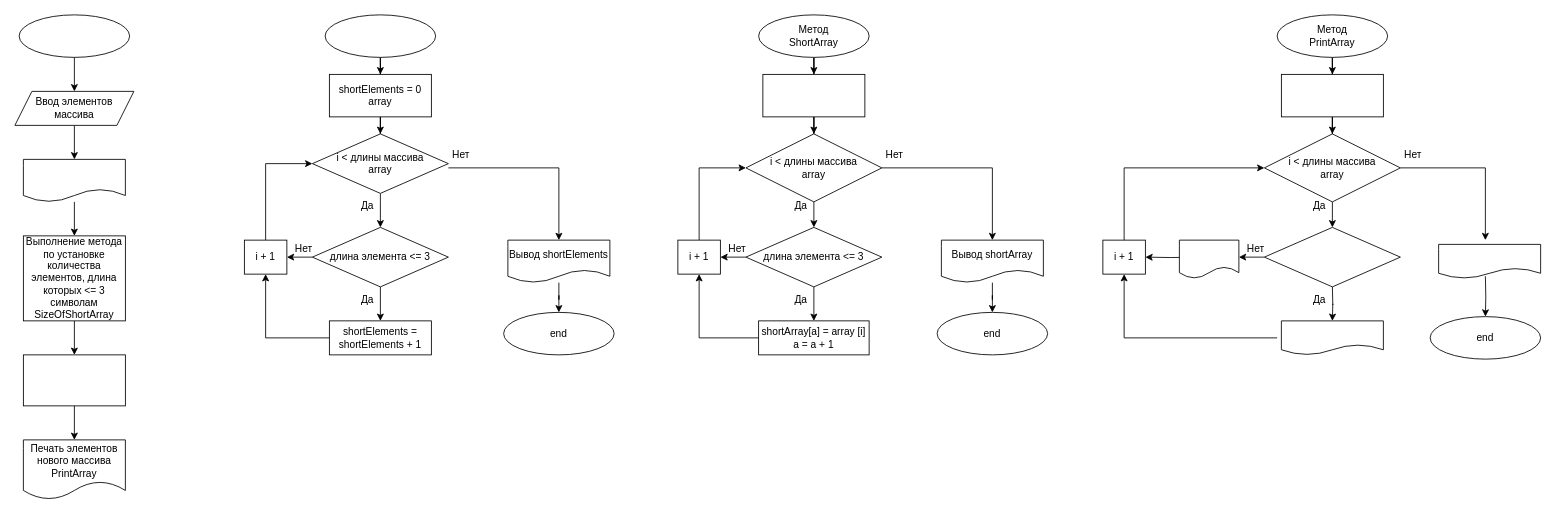
Some shapes in this 1556 by 514 pixel diagram are drawn without their labels. Each missing label, with the box of its shape:
a = 0 shortArray array: (762, 74, 865, 117)
array Печать "[": (1281, 74, 1383, 117)
i < длины массива array - 1: (1264, 227, 1400, 287)
Start: (18, 14, 130, 57)
Выполнение метода по созданию нового массива ShortArray: (23, 354, 125, 406)
Метод SizeOfShortArray: (324, 14, 436, 57)
Печать "]": (1438, 244, 1541, 278)
Печать "array[i]": (1179, 239, 1239, 278)
Печать "array[i], ": (1281, 320, 1383, 355)
Печать элементов PrintArray: (23, 159, 125, 202)
